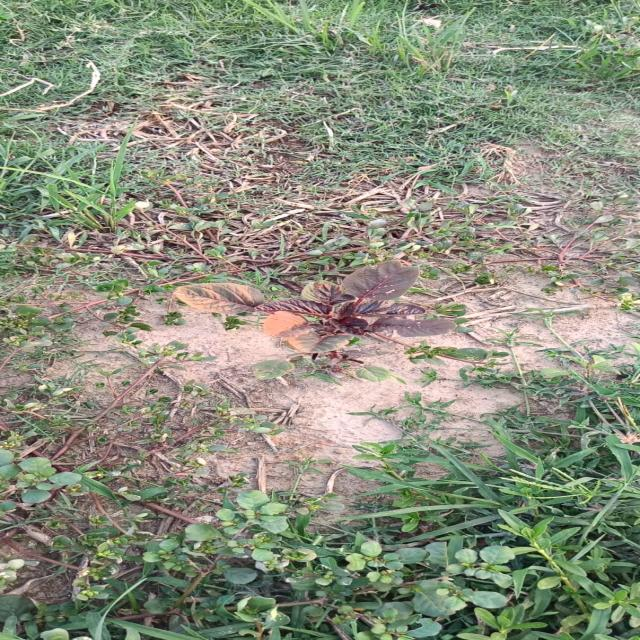plant: (171, 261, 454, 354)
